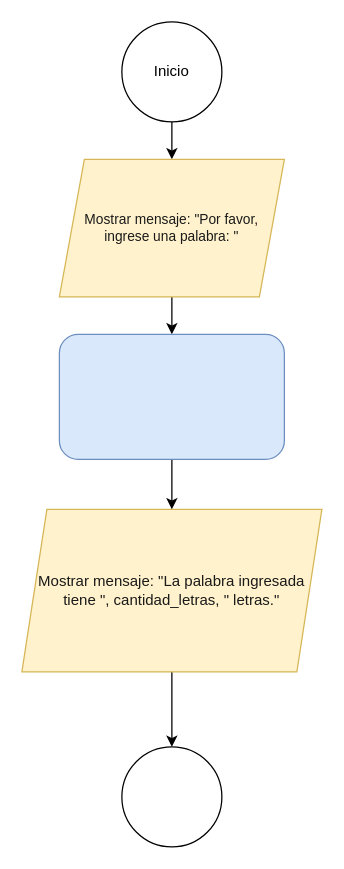
The diagram is 344 pixels wide and 869 high, and some of its shapes have lost their labels. The centre of each missing label's shape, as x and y in pixels:
"Definir la variable cantidad_letras y asignarle la longitud de palabra_ingresada" goes at point 171,396.
"Fin" goes at point 171,796.
